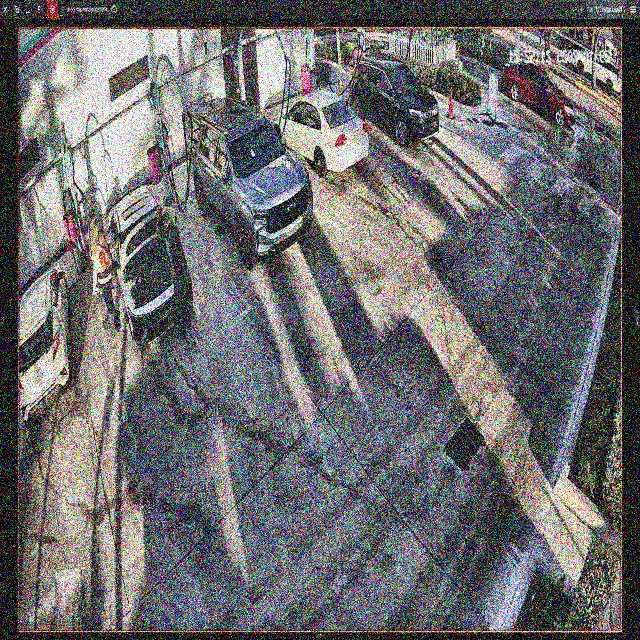Car: (188, 101, 312, 263), (110, 183, 191, 345), (350, 58, 437, 154), (273, 92, 368, 171)
